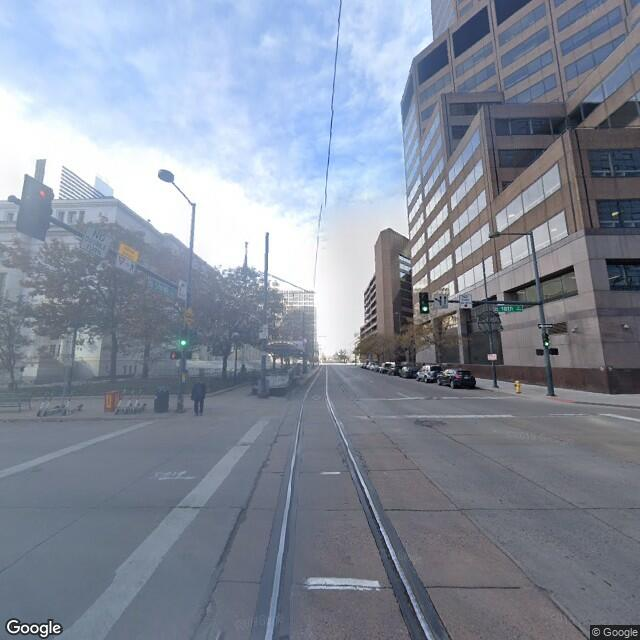fh: (513, 378, 524, 399)
lamp: (154, 169, 210, 357)
